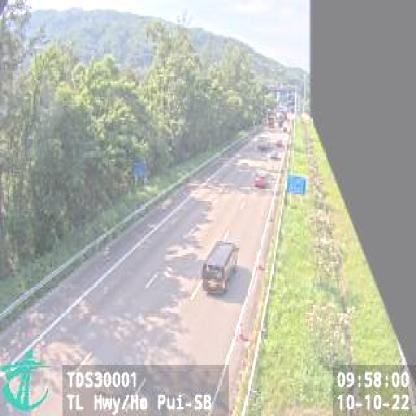Car: (203, 237, 239, 294), (256, 171, 270, 188)
